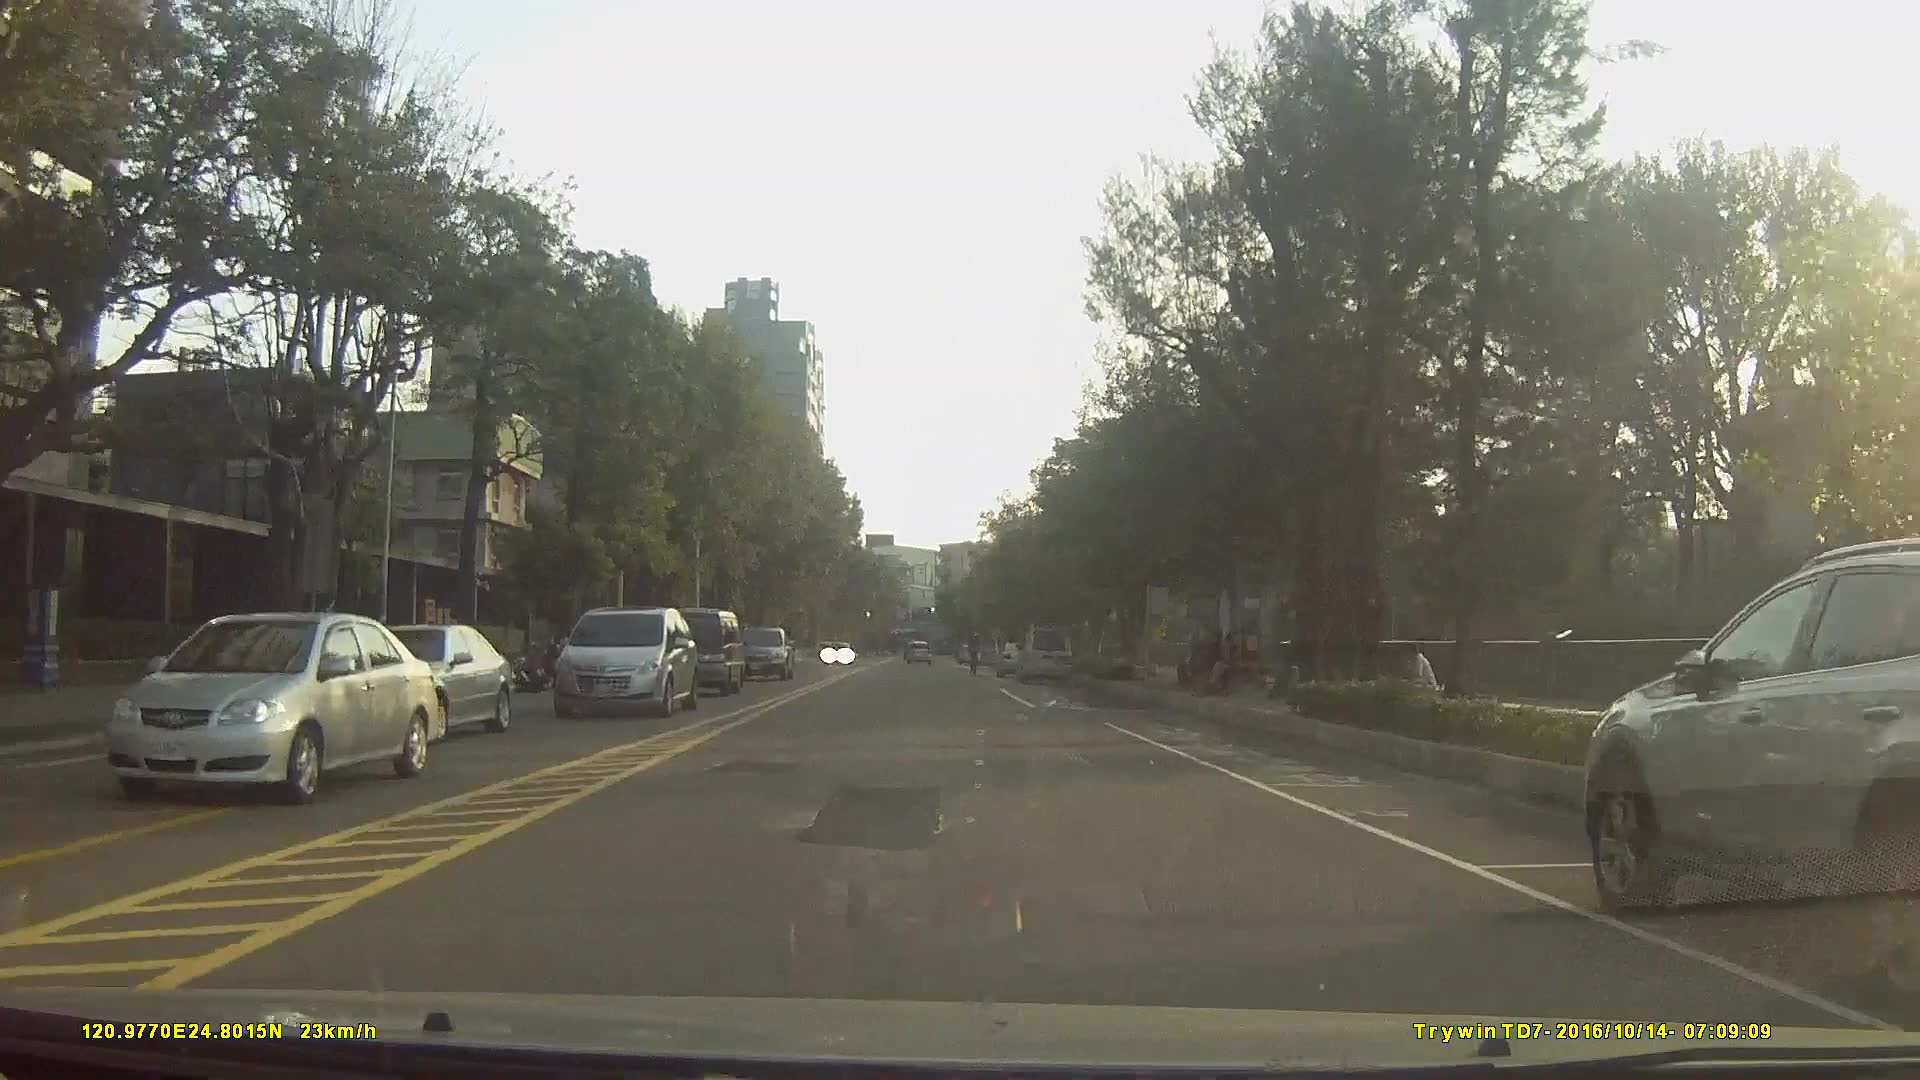rider: (965, 634, 985, 679)
vehicle: (1582, 540, 1920, 993), (106, 608, 442, 805), (343, 622, 512, 743), (548, 606, 699, 719), (647, 604, 742, 693), (1014, 624, 1074, 685), (731, 623, 793, 678), (994, 638, 1032, 678), (903, 638, 932, 665)
